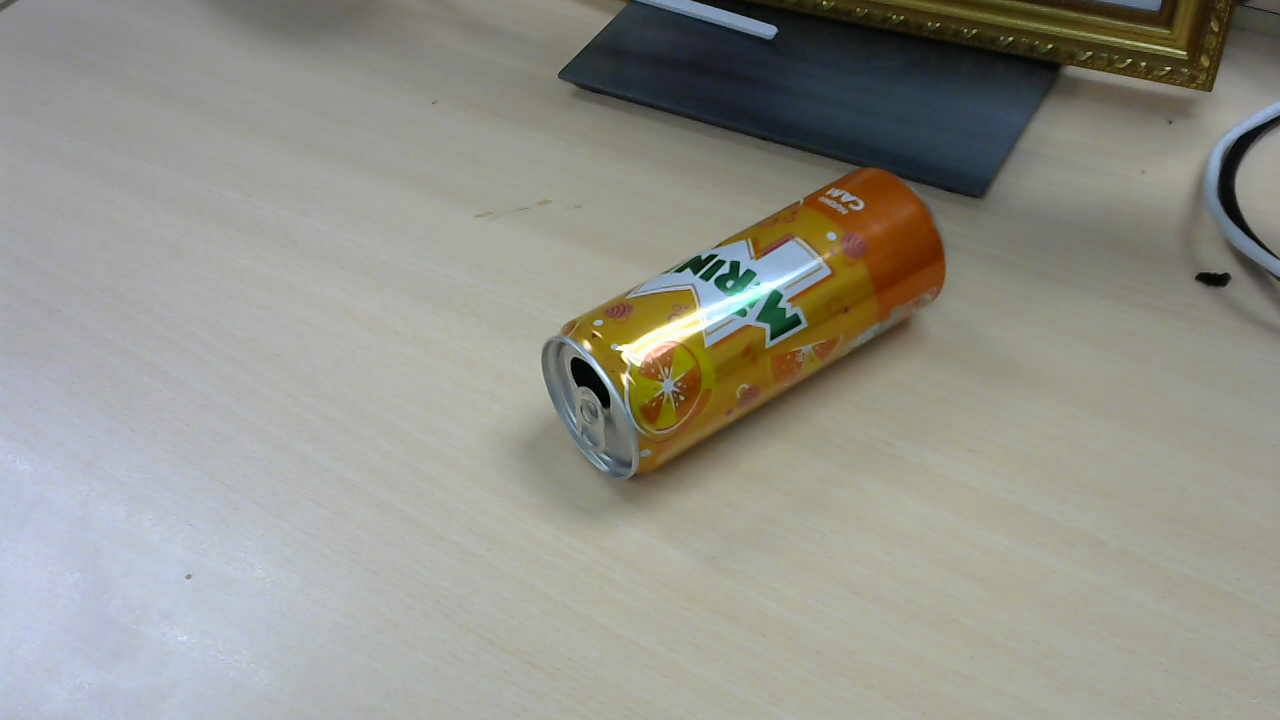Mirinda: (548, 169, 943, 487)
